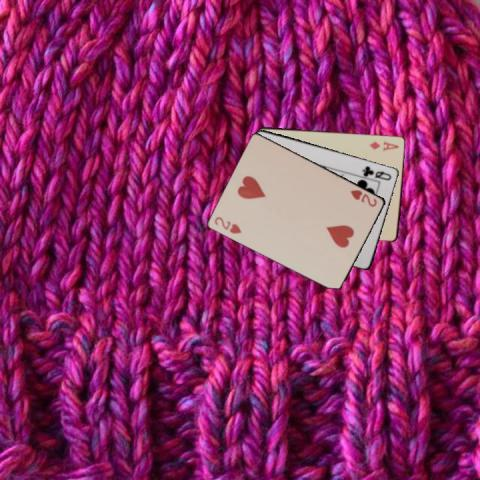2h: (212, 214, 243, 236), (347, 187, 379, 208)
Ad: (367, 138, 400, 151)
Qc: (359, 163, 393, 181)
